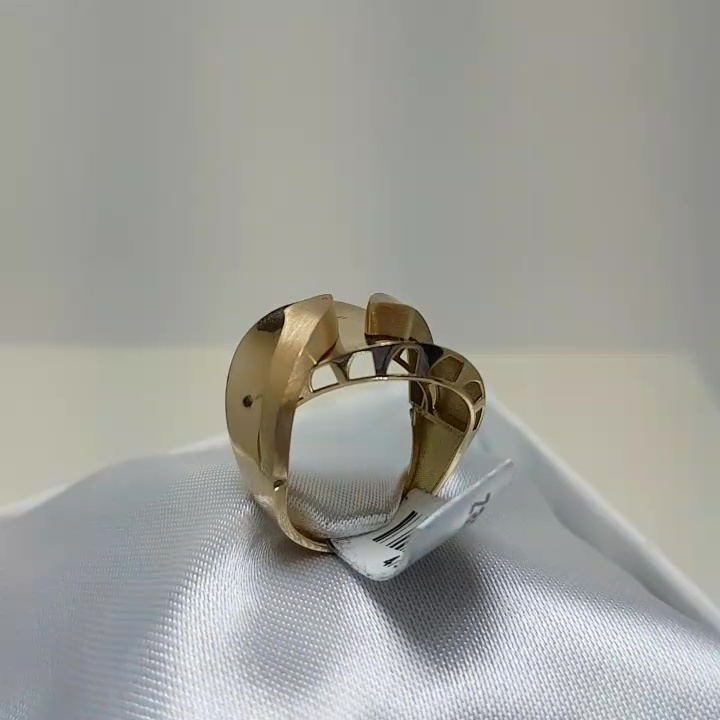Ring 4: (213, 251, 500, 589)
